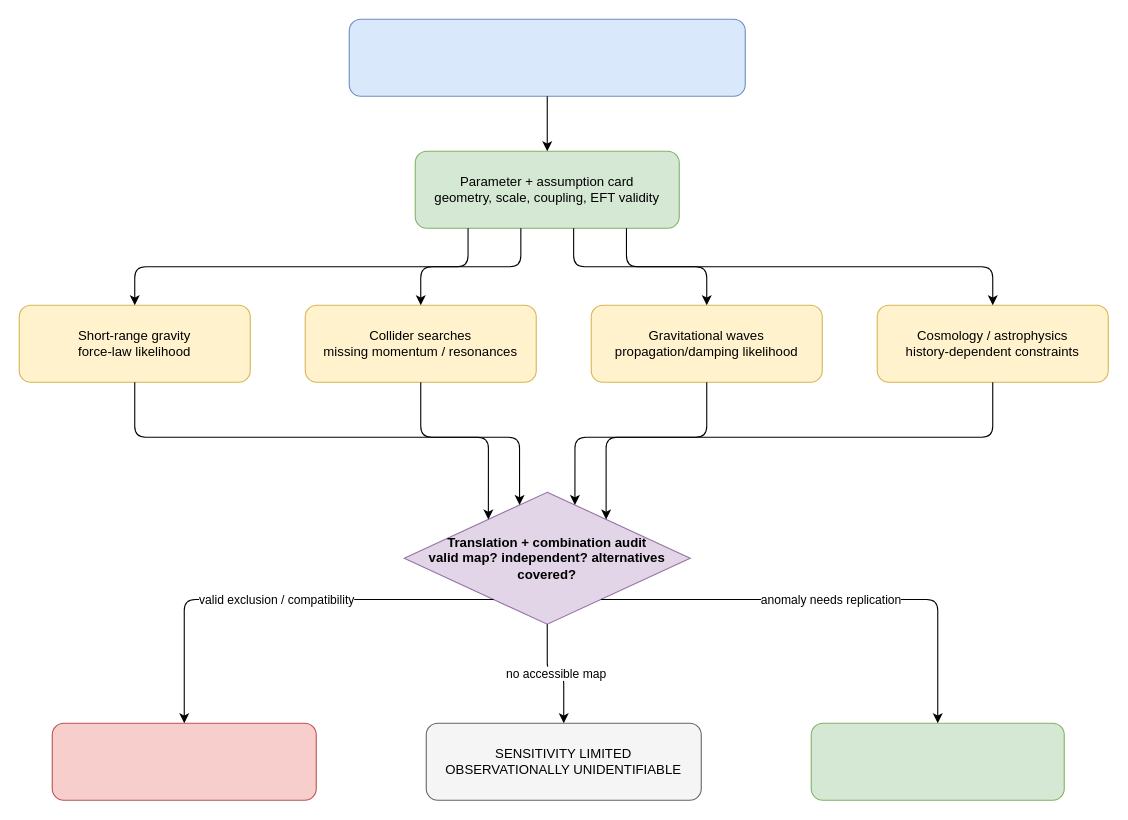
The diagram is 1128 pixels wide and 820 high, and some of its shapes have lost their labels. Here are the shapes that lost their labels. From the top down, the centre of each, then its label:
At pixel 546 57: "Extra-dimension model registry ADD / RS / propagation / formal compactification".
At pixel 183 761: "EXCLUDED WITHIN ASSUMPTIONS CURRENTLY COMPATIBLE".
At pixel 937 761: "REQUIRES INDEPENDENT TEST not a discovery claim".
